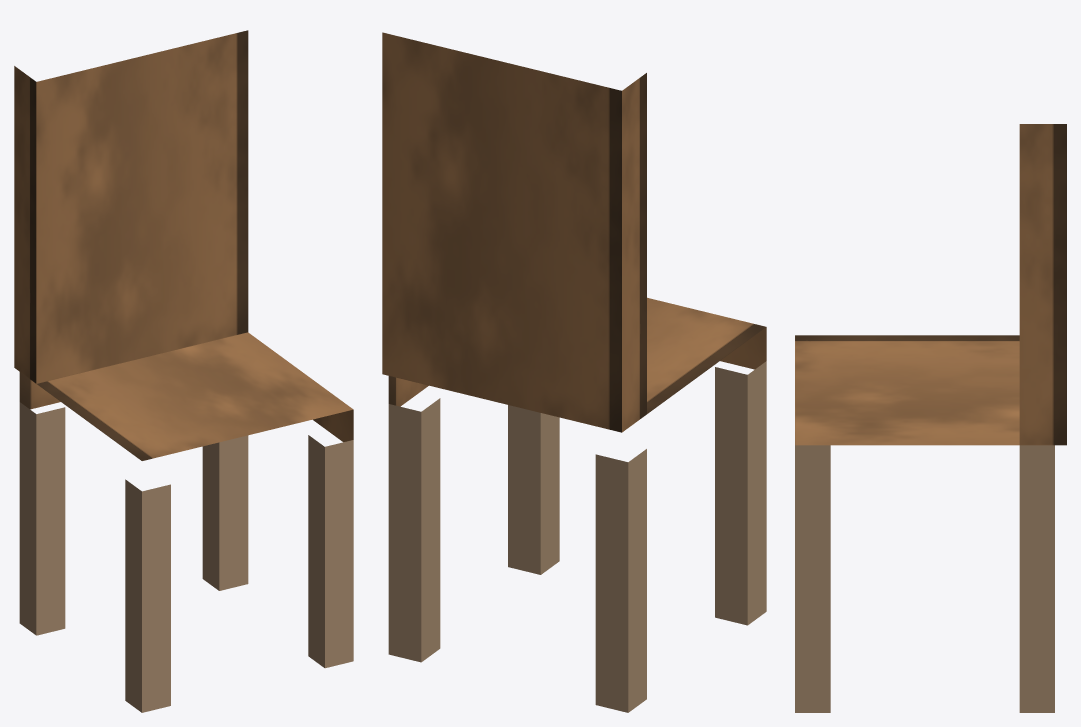
Rendered from prop_chair.glb.
3 renders of one model, left to right at view 1: azimuth 30°, elevation 25°; view 2: azimuth 150°, elevation 25°; view 3: azimuth 270°, elevation 25°, orthographic. The views are drawn at different scales.
Visible parts, largest first — view 1: prop; view 2: prop; view 3: prop.
Part boxes in pixels (x1,y1,x2,y2): prop: (14, 30, 353, 712); prop: (382, 32, 766, 712); prop: (795, 124, 1066, 712).
Size of the model in its own units: 0.44 by 1.1 by 0.46.
6 materials, 2 textured.
